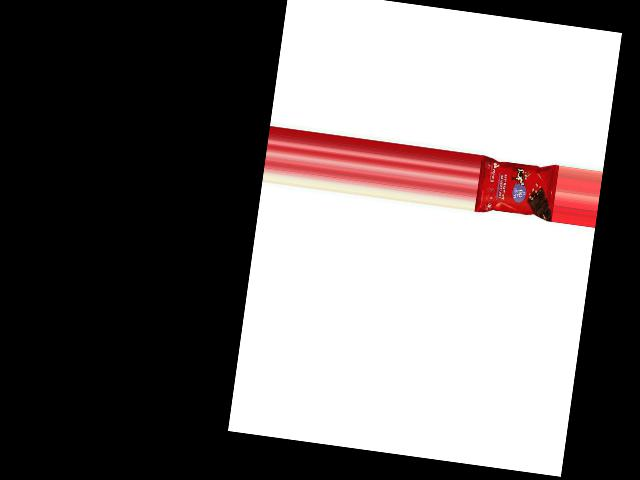chocolate: (473, 157, 558, 222)
